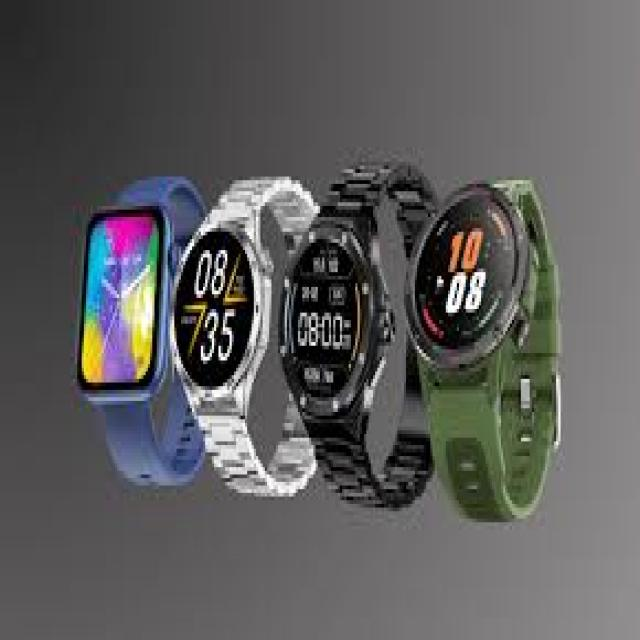objects: (280, 162, 437, 504), (410, 184, 558, 515), (172, 177, 318, 493), (77, 177, 203, 482)
